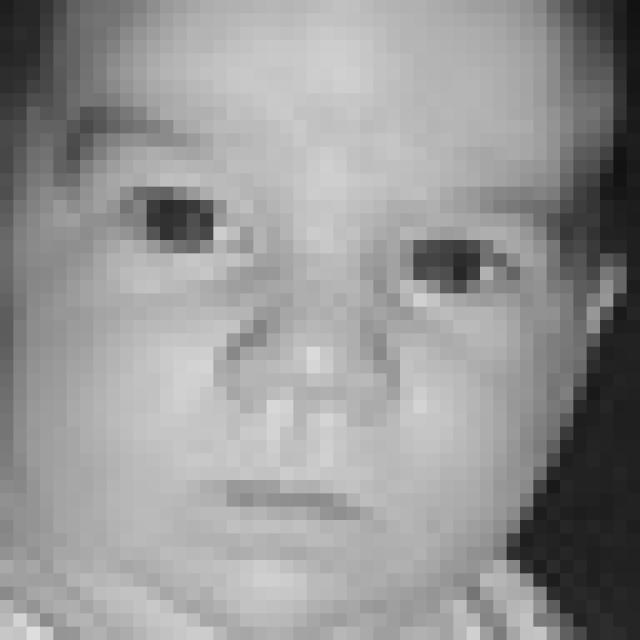disgust: (61, 111, 572, 572)
